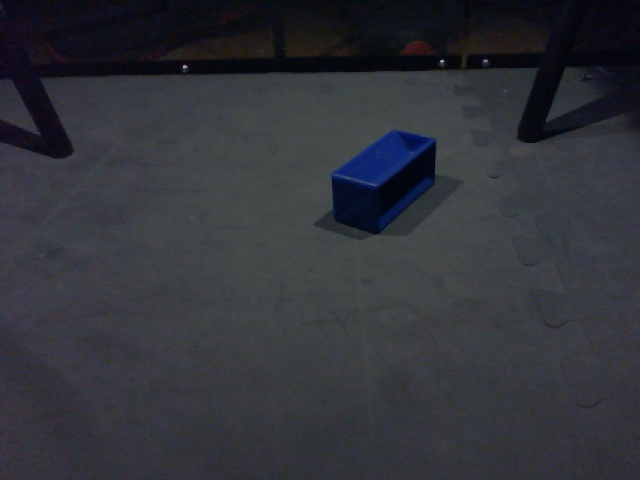BlueSample: (328, 127, 438, 236)
